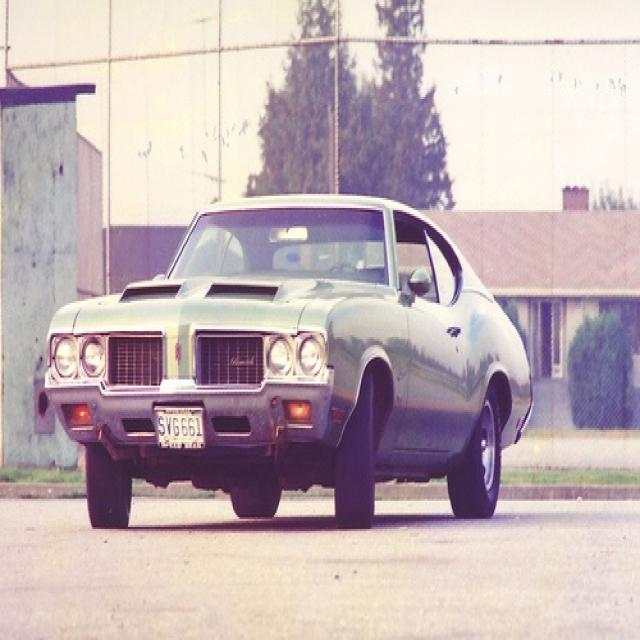car: (40, 196, 535, 531)
